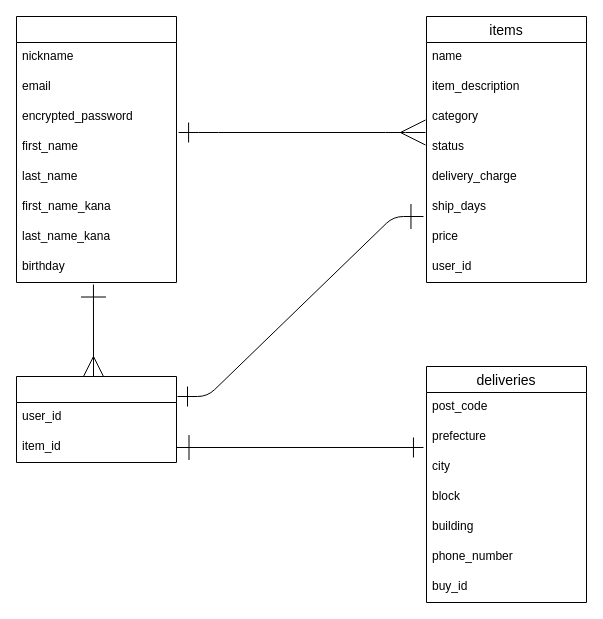
Image size: 603x619. Some labels were removed from this diagram. The box of each missing label's shape, as (x1, y1, x2, y2) in pixels:
buies: (16, 376, 176, 462)
users: (16, 16, 176, 282)
